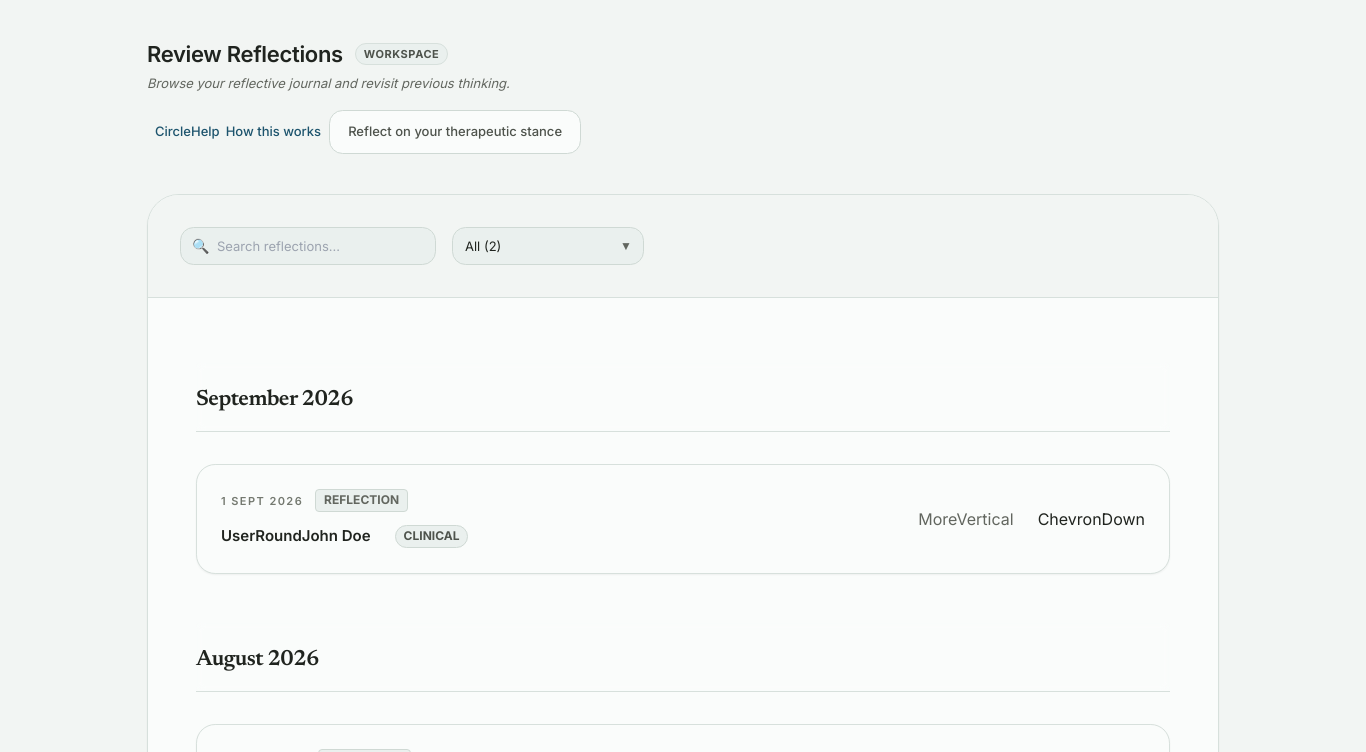
Test: SupervisionReflections.spec.js › shows "Your Reflective Space" for zero-result search
Type "NON_EXISTENT_MATCH" into the field with placeholder "Search reflections...".
click(308, 246); type("NON_EXISTENT_MATCH")  # box x1=180 y1=227 x2=436 y2=265
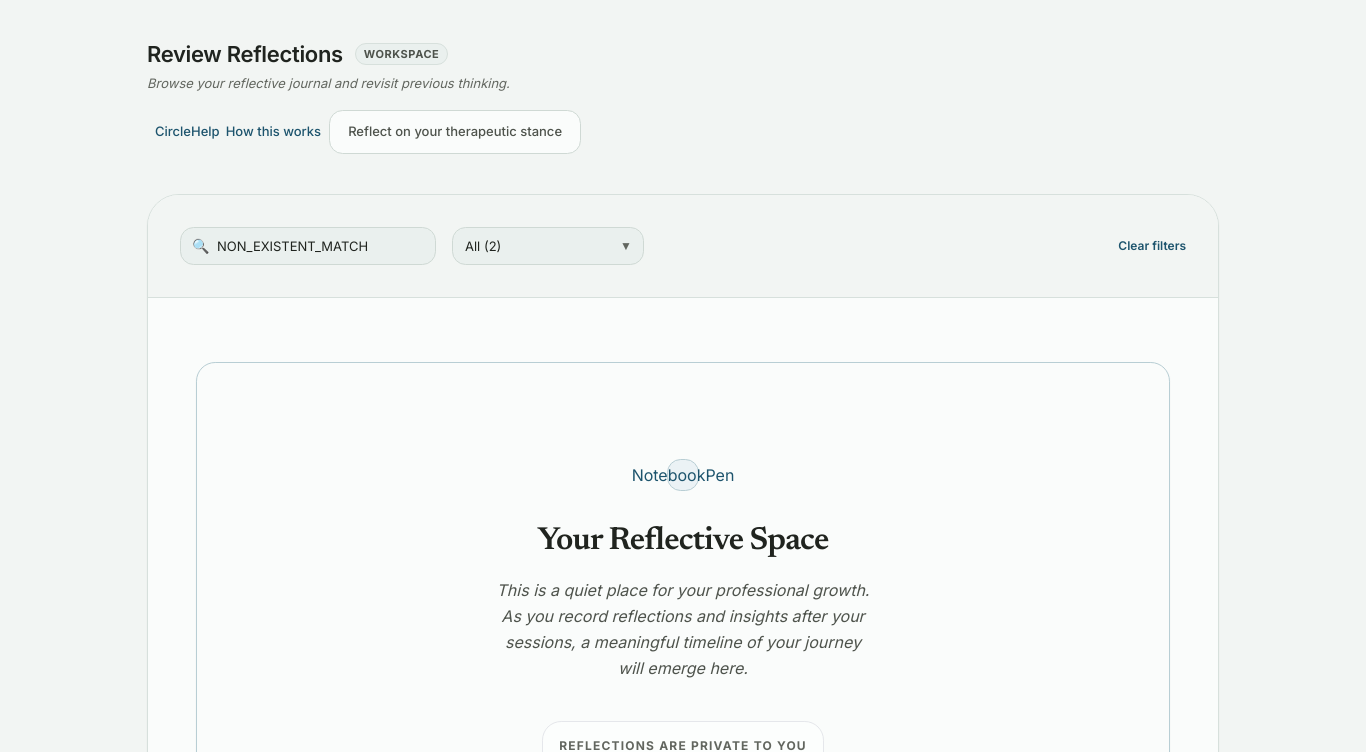
Expected: the text "Your Reflective Space" is shown, x1=537 y1=525 x2=829 y2=557
